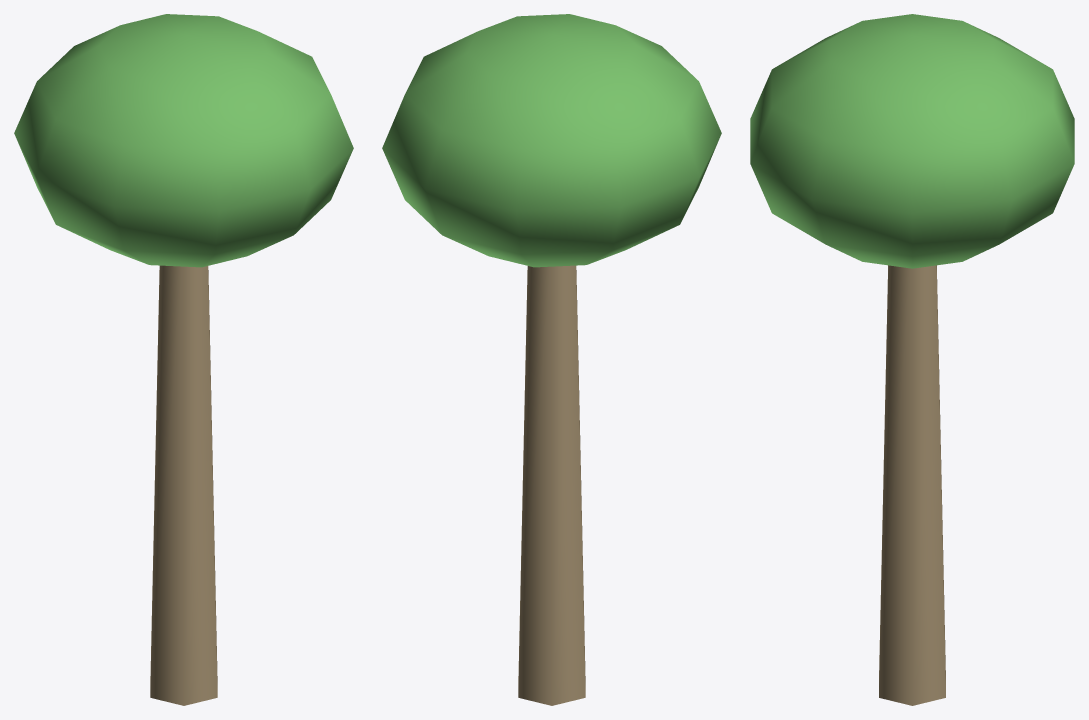
Rendered from tree-fan.glb.
3 views of the same model, side by side, from view 1: azimuth 30°, elevation 25°; view 2: azimuth 150°, elevation 25°; view 3: azimuth 270°, elevation 25° (orthographic).
Bounding box in the file's own units: 0.44 × 0.93 × 0.4185.
